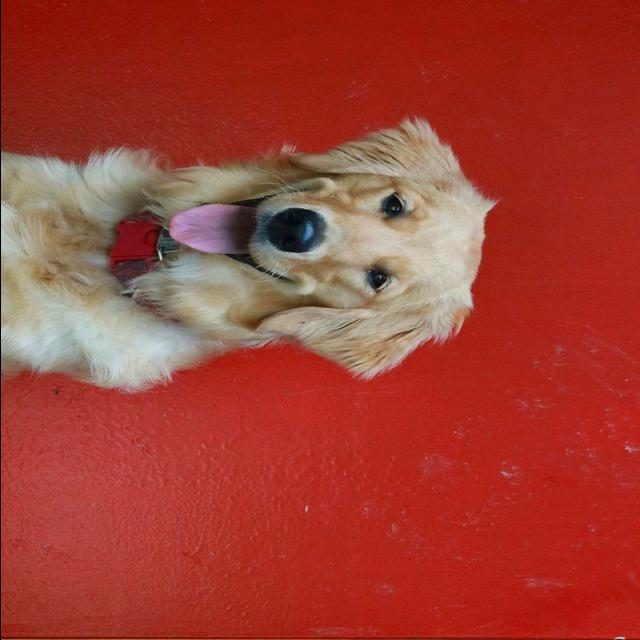retriever: (2, 114, 499, 394)
